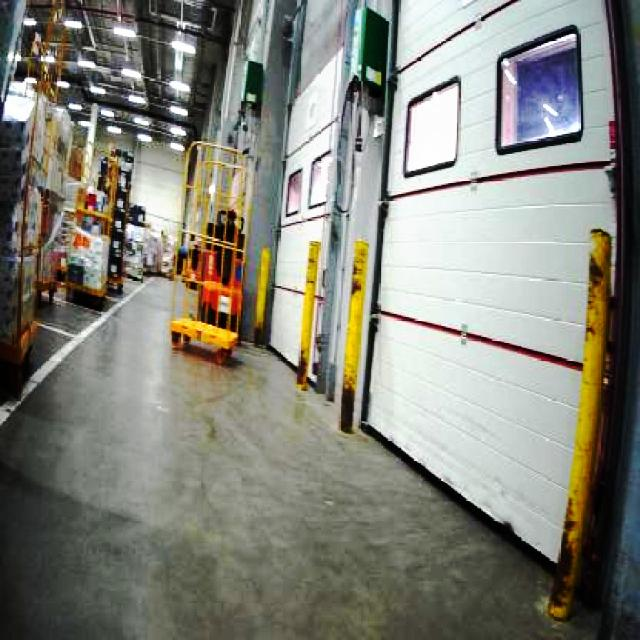ground: (0, 269, 605, 638)
pallet: (0, 88, 72, 403), (168, 138, 249, 365), (63, 145, 132, 309), (169, 315, 238, 365), (35, 278, 57, 306)
